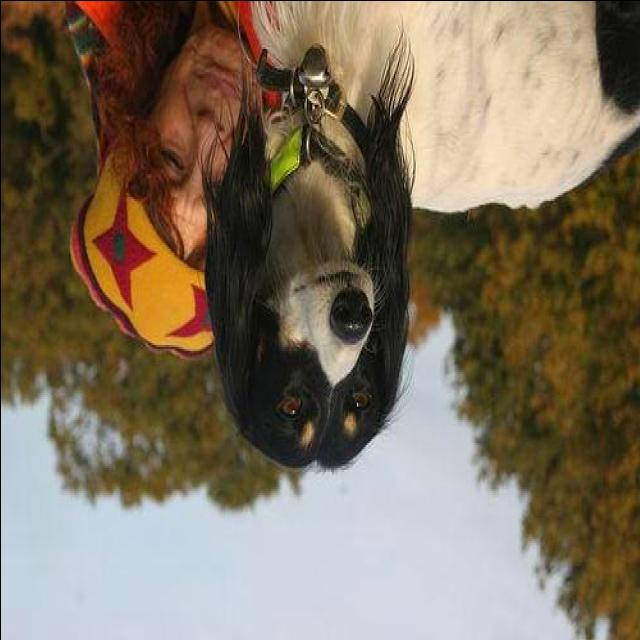saluki: (201, 2, 640, 473)
